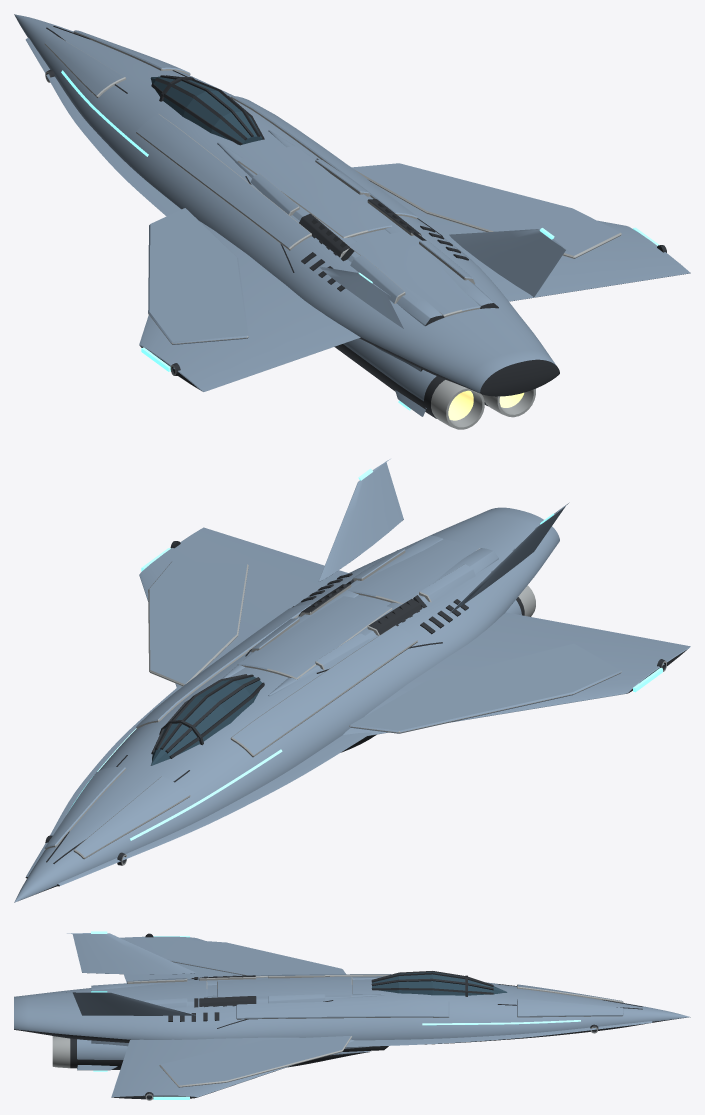
The model's file is kestrel.glb.
3 renders of one model, top to bottom at view 1: azimuth 30°, elevation 25°; view 2: azimuth 150°, elevation 25°; view 3: azimuth 270°, elevation 25°, orthographic. The views are drawn at different scales.
Parts seen in each view (by area): view 1: Hull_Kestrel; view 2: Hull_Kestrel; view 3: Hull_Kestrel.
Part boxes in pixels (left/top/right/bottom): Hull_Kestrel: left=14, top=14, right=690, bottom=429; Hull_Kestrel: left=14, top=459, right=690, bottom=902; Hull_Kestrel: left=14, top=931, right=690, bottom=1100.
Size of the model in its own units: 39.48 by 11.28 by 70.
